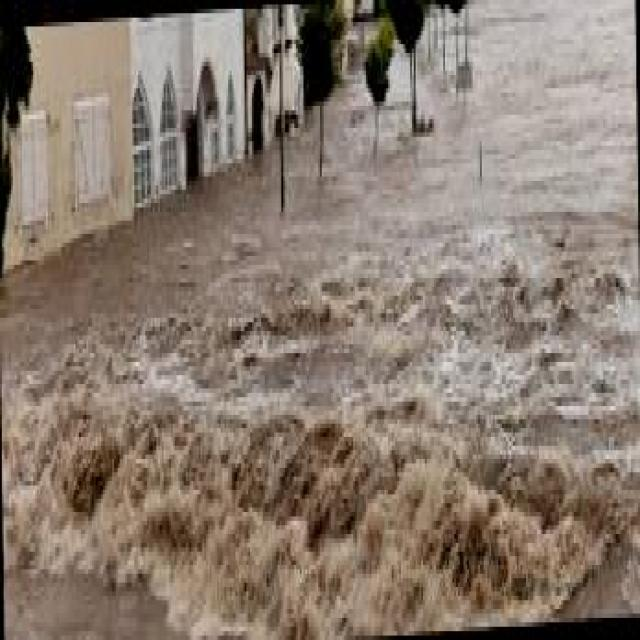flood: (0, 71, 638, 636)
